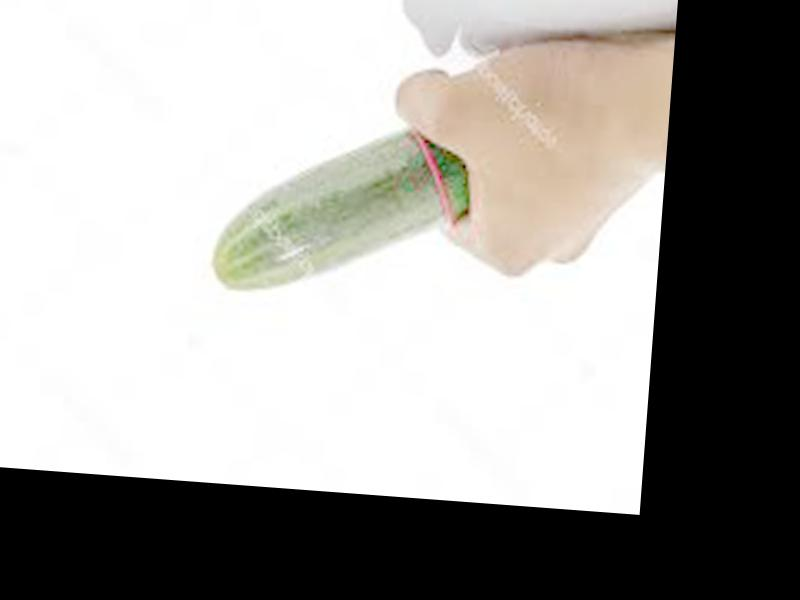Cucumber: (210, 117, 475, 307)
